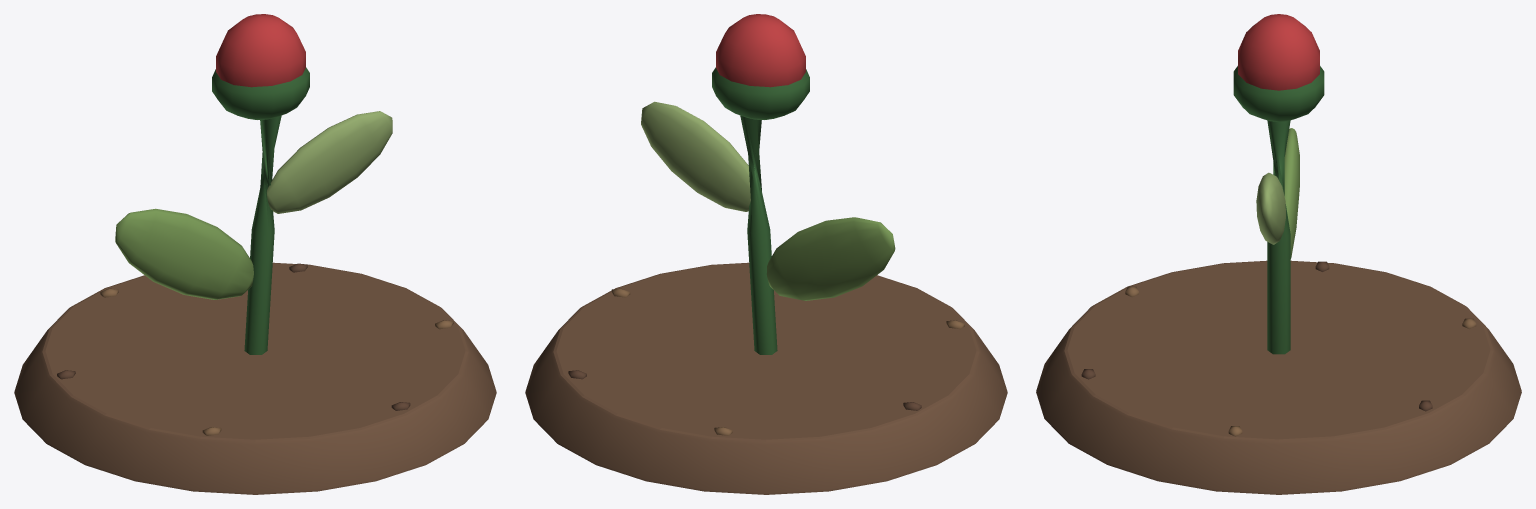
File: flower_stage2_red.glb
3 views of the same model, side by side, from view 1: azimuth 30°, elevation 25°; view 2: azimuth 150°, elevation 25°; view 3: azimuth 270°, elevation 25° (orthographic).
Size of the model in its own units: 0.3775 by 0.324 by 0.3775.
